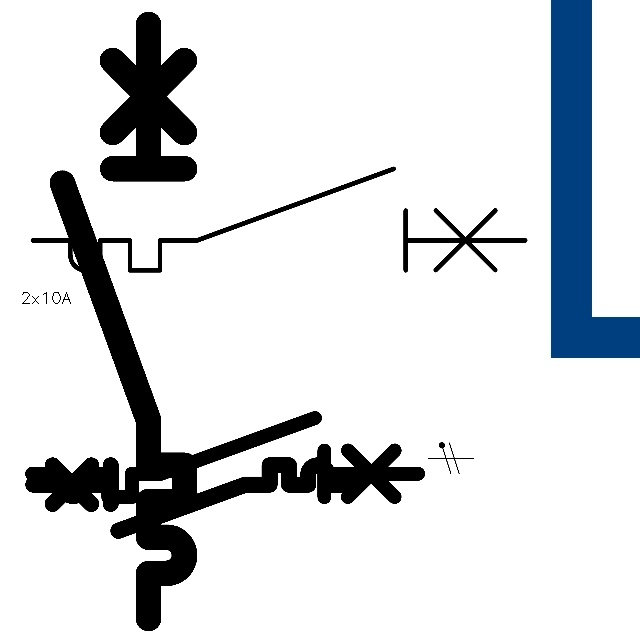interruptor_termomagnetico: (47, 9, 200, 634), (20, 156, 538, 283), (22, 408, 428, 507), (25, 457, 360, 539)
